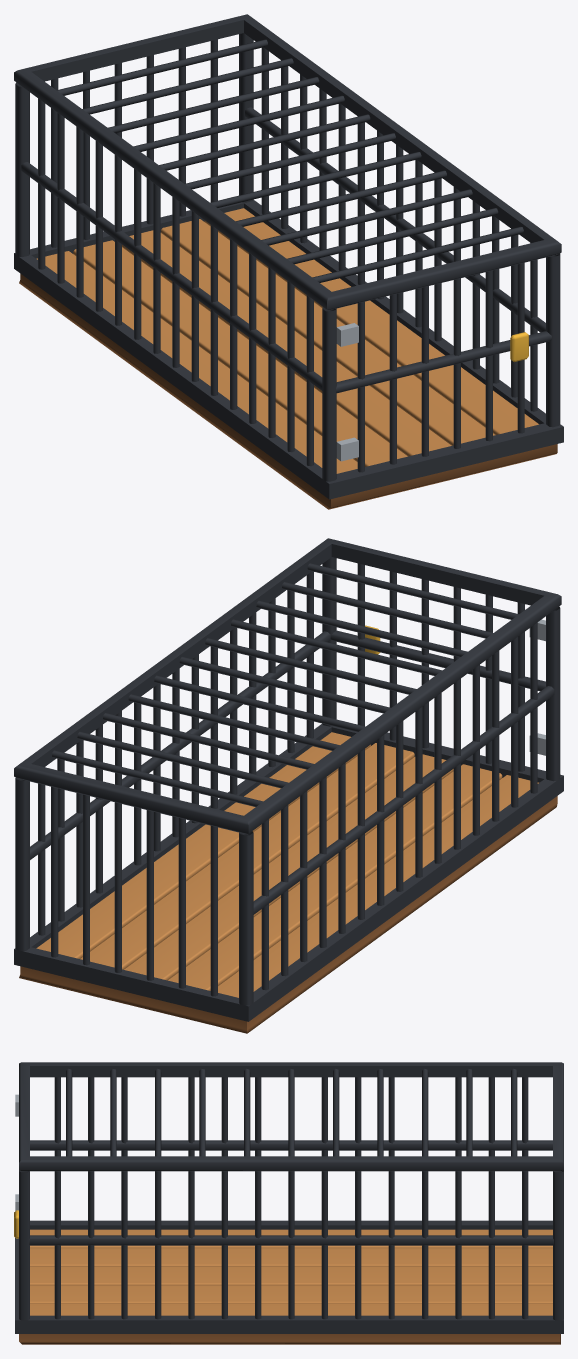
File: Jaula.fbx
3 views of the same model, one above another, from view 1: azimuth 30°, elevation 25°; view 2: azimuth 150°, elevation 25°; view 3: azimuth 270°, elevation 25° (orthographic). The views are drawn at different scales.
Visible parts, largest first — view 1: Jaula; view 2: Jaula; view 3: Jaula.
Boxes of the visible parts, x1,y1,x2,y2 form: Jaula: (14,14,563,509); Jaula: (14,538,563,1033); Jaula: (14,1062,563,1344).
Size of the model in its own units: 3 by 2.6 by 7.
Materials: 1 (1 with a texture image).
